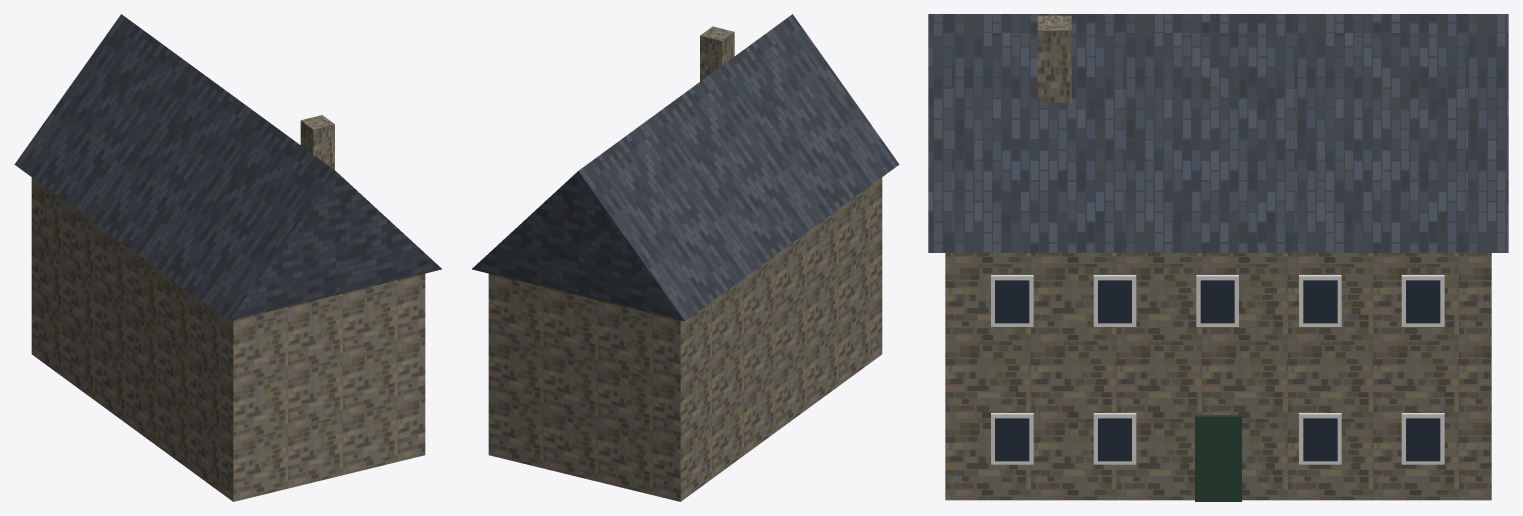
File: ardennes_house_a.glb
The picture shows the model from 3 angles, left to right: view 1: azimuth 30°, elevation 25°; view 2: azimuth 150°, elevation 25°; view 3: azimuth 270°, elevation 25°; orthographic projection. The views are drawn at different scales.
Visible parts, largest first — view 1: house; view 2: house; view 3: house.
Part boxes in pixels (left/top/right/bottom): house: left=14, top=14, right=441, bottom=501; house: left=472, top=14, right=899, bottom=501; house: left=928, top=14, right=1508, bottom=501.
Size of the model in its own units: 7.81 by 11.16 by 13.56.
5 materials, 2 textured.
